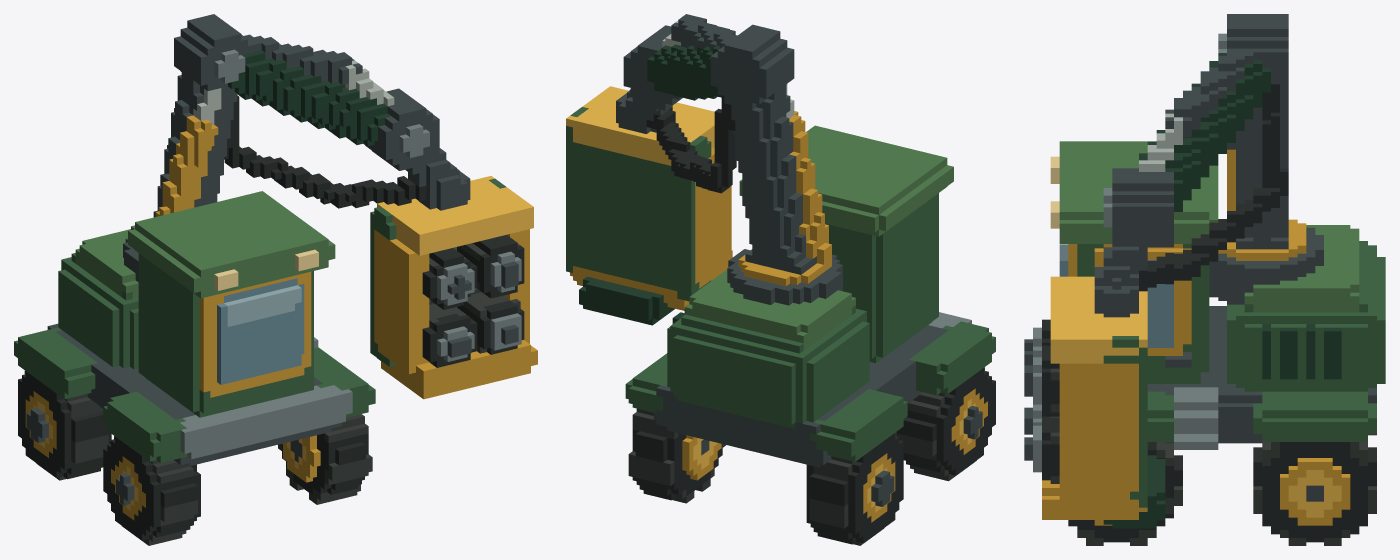
The model's file is logging_harvester.glb.
The picture shows the model from 3 angles, left to right: view 1: azimuth 30°, elevation 25°; view 2: azimuth 150°, elevation 25°; view 3: azimuth 270°, elevation 25°; orthographic projection. The views are drawn at different scales.
Parts seen in each view (by area): view 1: logging_harvester; view 2: logging_harvester; view 3: logging_harvester.
Part boxes in pixels (bbox=[...]): logging_harvester: bbox=[14, 14, 537, 545]; logging_harvester: bbox=[566, 14, 995, 545]; logging_harvester: bbox=[1024, 14, 1385, 545].
Bounding box in the file's own units: 5.7 × 6.1 × 4.1.
